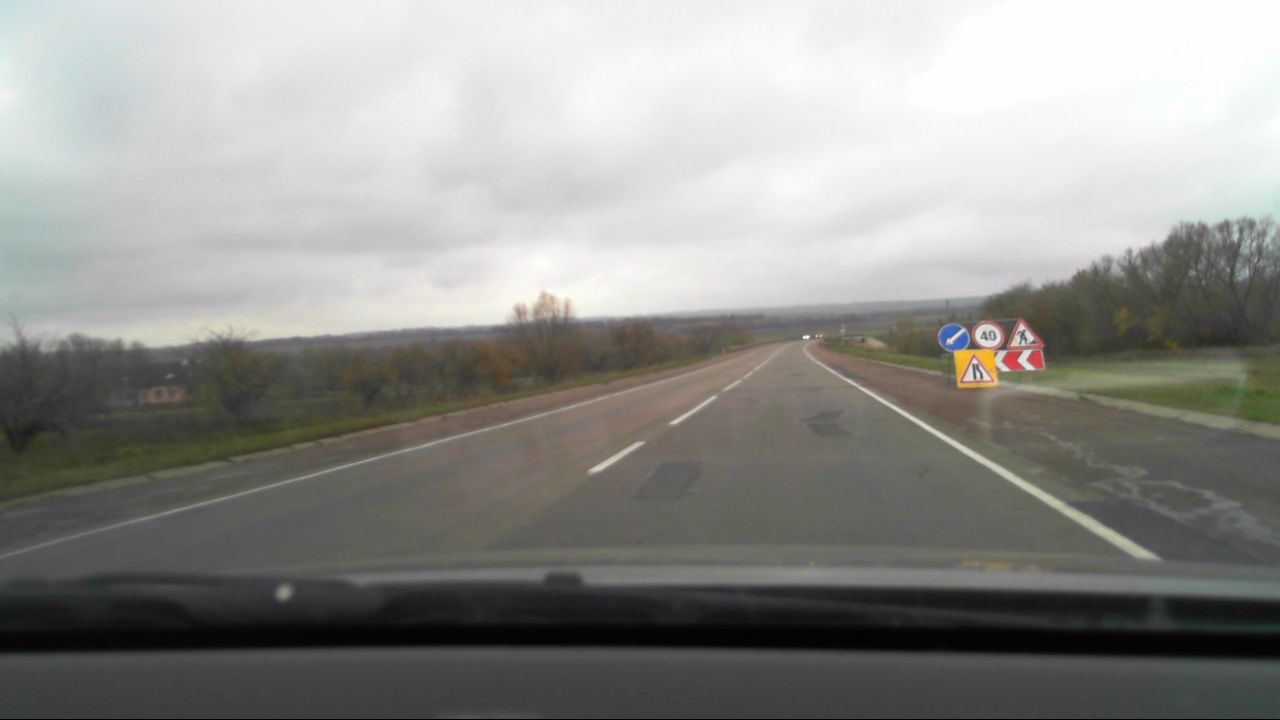speed_warning_40: (973, 320, 1004, 351)
